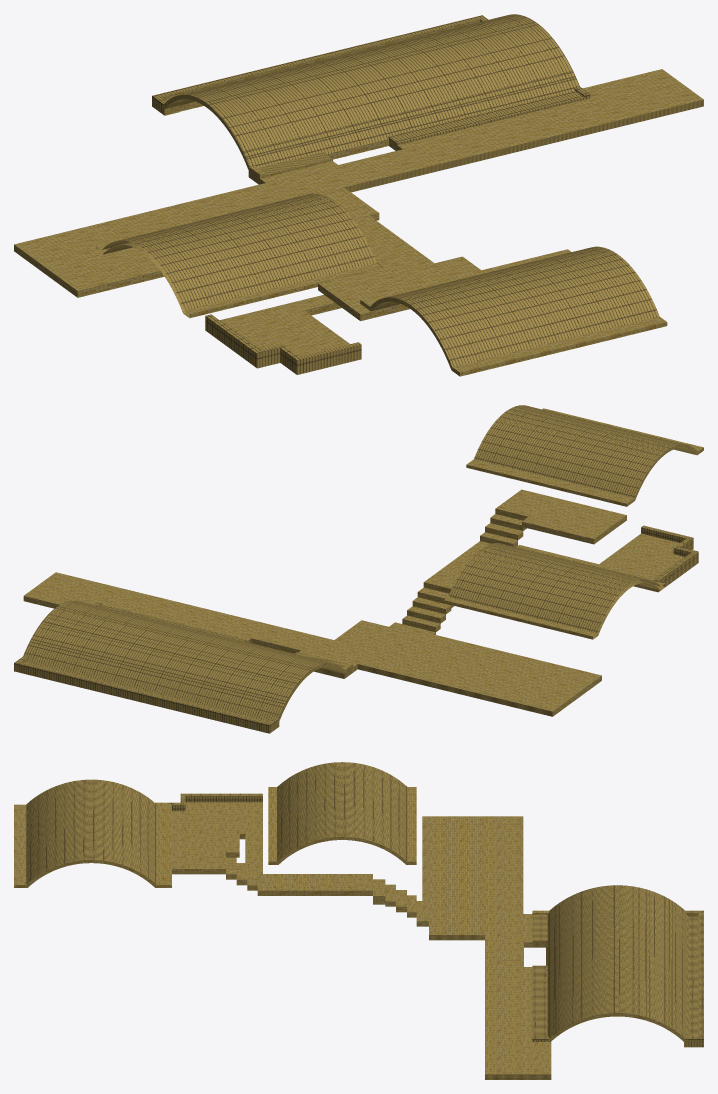
Rendered from cubiertas.glb.
3 views of the same model, one above another, from view 1: azimuth 30°, elevation 25°; view 2: azimuth 150°, elevation 25°; view 3: azimuth 270°, elevation 25° (orthographic). The views are drawn at different scales.
Parts seen in each view (by area): view 1: 65659; view 2: 65659; view 3: 65659.
Boxes of the visible parts, x1=… form: 65659: x1=14, y1=14, x2=703, y2=376; 65659: x1=14, y1=405, x2=703, y2=733; 65659: x1=14, y1=762, x2=703, y2=1079.
Bounding box in the file's own units: 17.37 × 2.85 × 19.63.
Materials: 4 (4 with a texture image).
